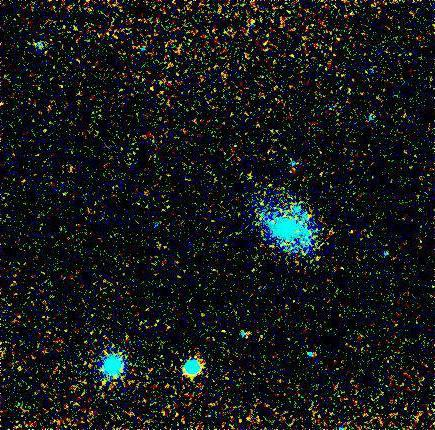star: (4, 353, 34, 383)
